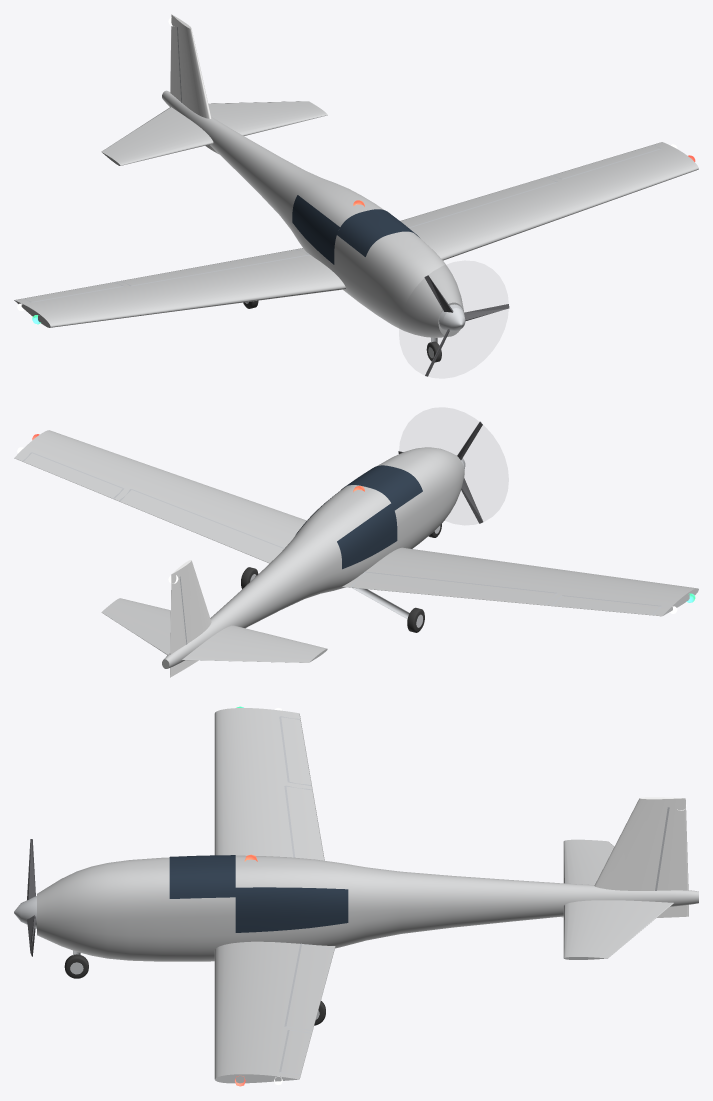
3 views of the same model, one above another, from view 1: azimuth 30°, elevation 25°; view 2: azimuth 150°, elevation 25°; view 3: azimuth 270°, elevation 25° (orthographic). The views are drawn at different scales.
Parts seen in each view (by area): view 1: airframe, prop; view 2: airframe, prop; view 3: airframe, prop.
Boxes of the visible parts, bbox=[...] form: airframe: bbox=[14, 14, 698, 362]; prop: bbox=[424, 275, 509, 376]; airframe: bbox=[14, 430, 698, 677]; prop: bbox=[398, 421, 483, 523]; airframe: bbox=[14, 706, 698, 1086]; prop: bbox=[27, 839, 35, 956].
Size of the model in its own units: 11.22 by 2.53 by 8.69.
